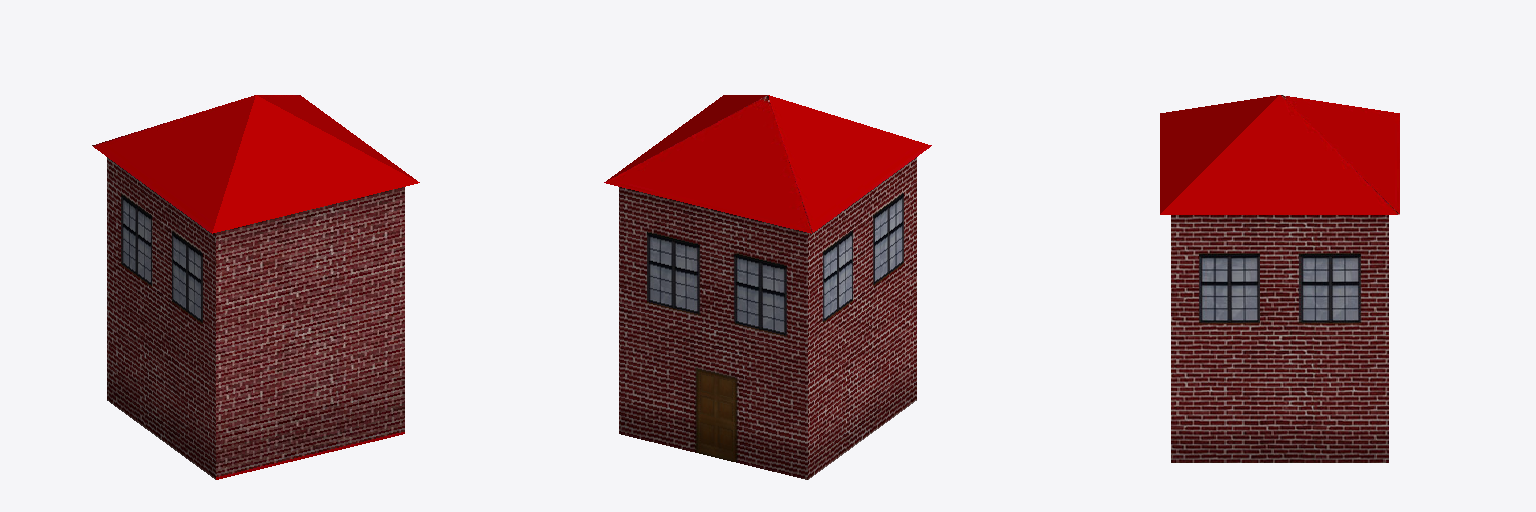
The picture shows the model from 3 angles: view 1: azimuth 30°, elevation 25°; view 2: azimuth 150°, elevation 25°; view 3: azimuth 270°, elevation 25°; orthographic projection.
Parts seen in each view (by area): view 1: Cube.001; view 2: Cube.001; view 3: Cube.001.
Part boxes in pixels (left/top/right/bottom): Cube.001: left=92, top=95, right=419, bottom=479; Cube.001: left=604, top=95, right=931, bottom=479; Cube.001: left=1160, top=95, right=1399, bottom=462.
Size of the model in its own units: 9.38 by 13.86 by 9.38.
Materials: 1 (1 with a texture image).